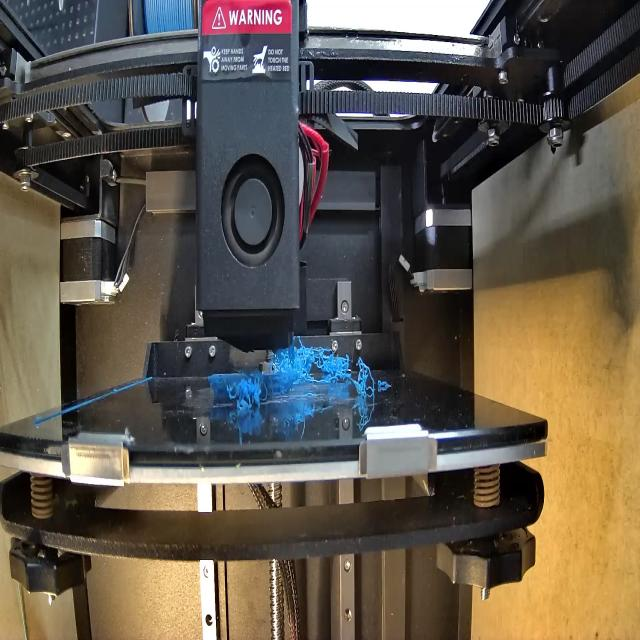spaghetti: (265, 340, 354, 388), (226, 362, 270, 408), (355, 352, 380, 407)
